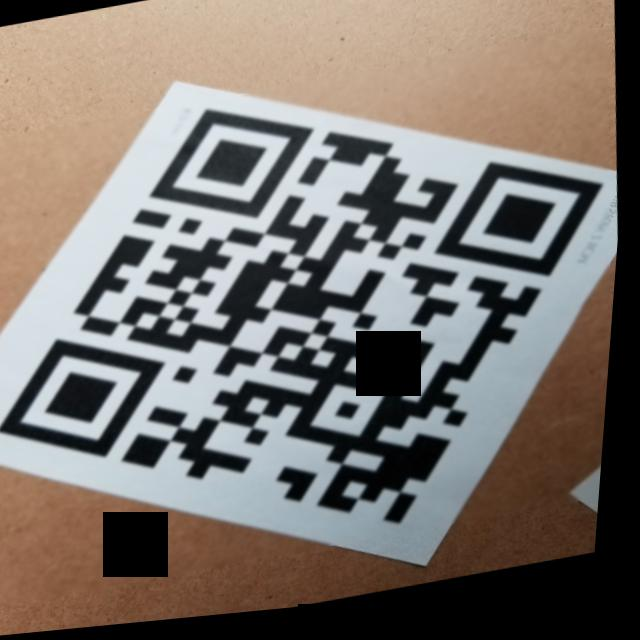QR_CODE: (0, 37, 635, 611)
